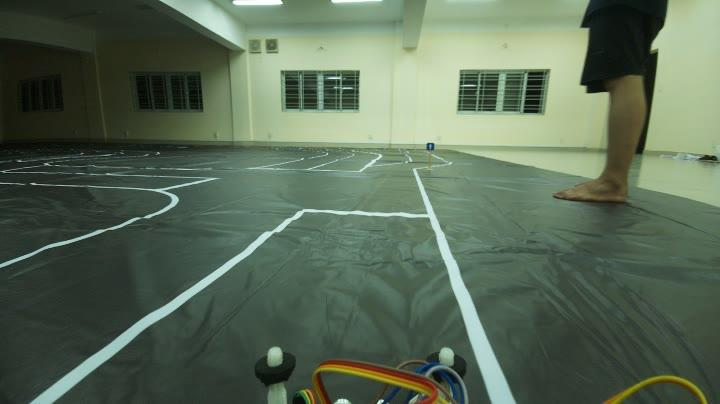onewayroad: (420, 141, 437, 155)
